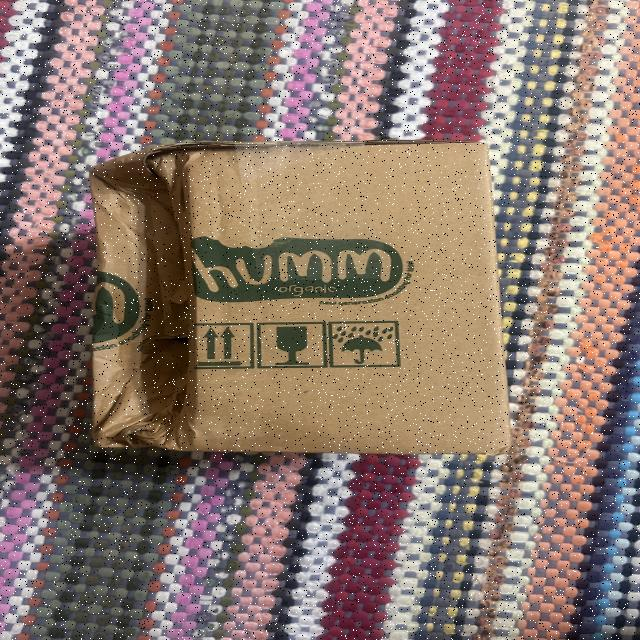damaged: (70, 133, 526, 461), (79, 133, 240, 452)
